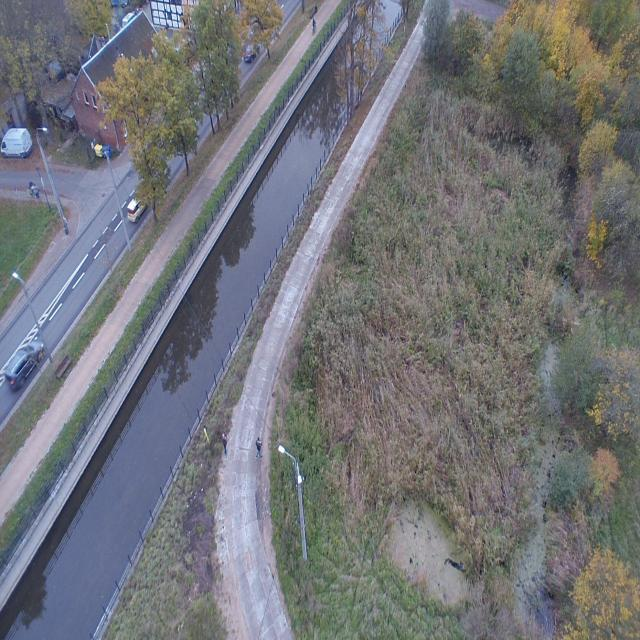p3rson: (255, 436, 262, 460), (222, 433, 228, 455), (34, 184, 40, 199), (312, 18, 316, 32), (28, 180, 33, 190)
